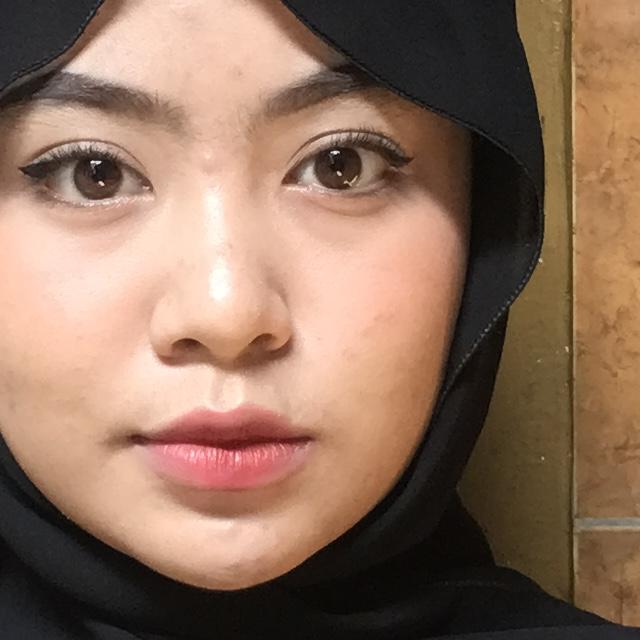ibu: (0, 276, 255, 640)
